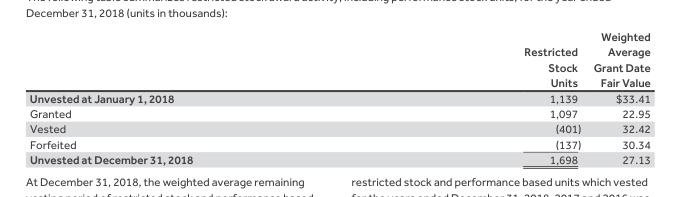table: (28, 28, 649, 165)
table column: (28, 28, 357, 165), (357, 28, 586, 165), (586, 28, 649, 165)
table column header: (28, 28, 649, 89)
table row: (28, 28, 649, 89), (28, 89, 649, 105), (28, 135, 649, 151), (28, 105, 649, 120), (28, 120, 649, 135), (28, 151, 649, 165)
